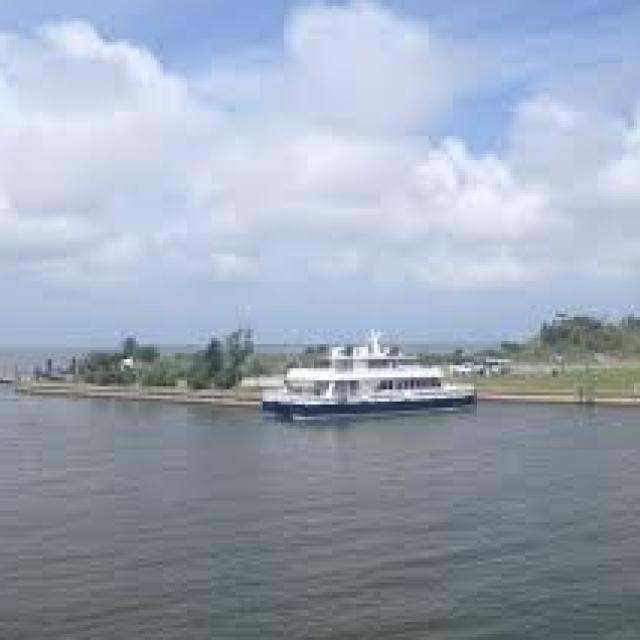passenger ship: (271, 337, 478, 424)
